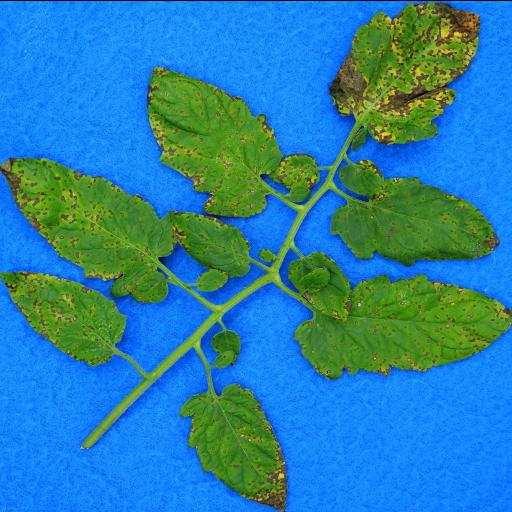disease_tomato: (0, 155, 178, 303), (295, 265, 512, 379), (326, 0, 482, 144), (146, 66, 285, 218), (328, 175, 502, 266), (178, 382, 288, 512), (1, 270, 127, 366), (168, 210, 253, 276), (286, 250, 352, 322), (268, 152, 320, 188), (339, 158, 386, 195), (212, 328, 242, 366), (195, 268, 229, 291)
